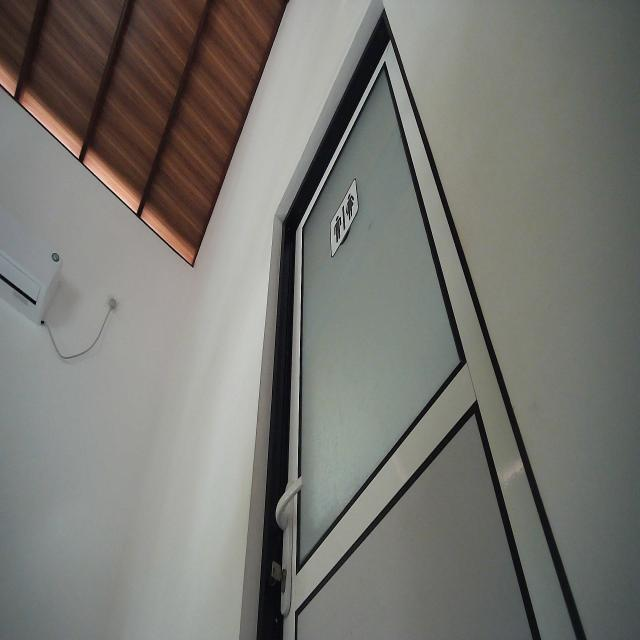restroom: (330, 175, 360, 259)
